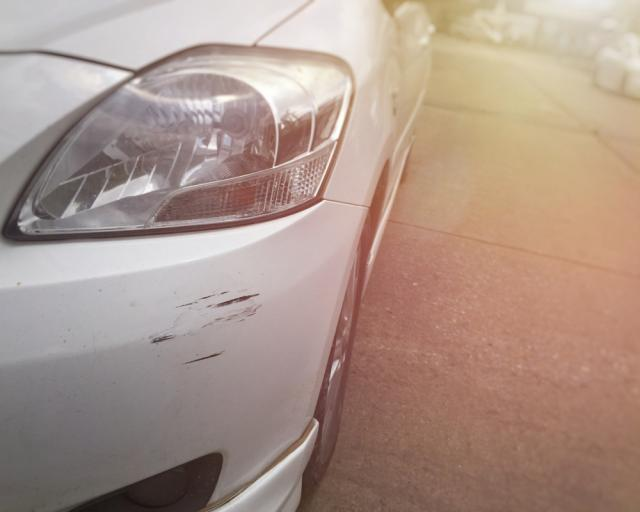scratch: (144, 283, 267, 375)
